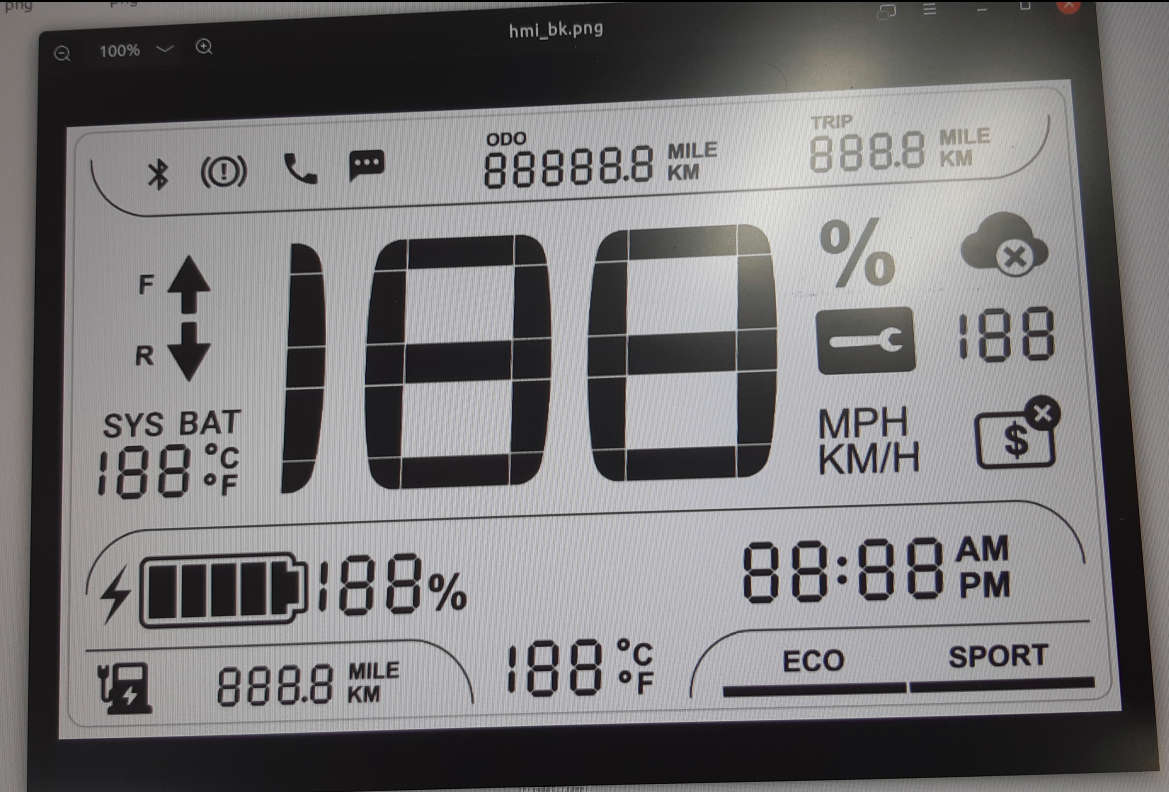bluetooth_on: (144, 155, 174, 193)
braking_on: (198, 151, 249, 192)
calling_on: (279, 147, 322, 188)
connection_lost: (956, 207, 1053, 281)
error_code: (810, 304, 920, 377)
low_battery: (95, 658, 158, 720)
sms_on: (345, 147, 388, 185)
vin_id: (970, 391, 1066, 474)
